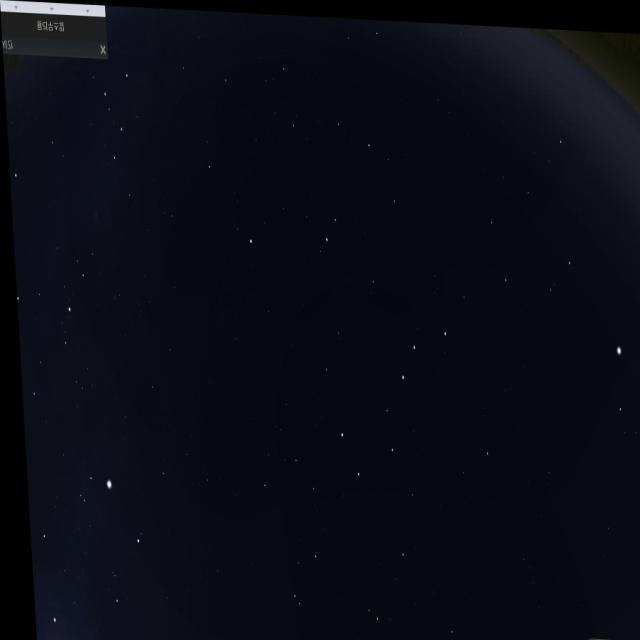cassiopeia: (94, 45, 154, 221)
ursa_major: (326, 302, 454, 484)
